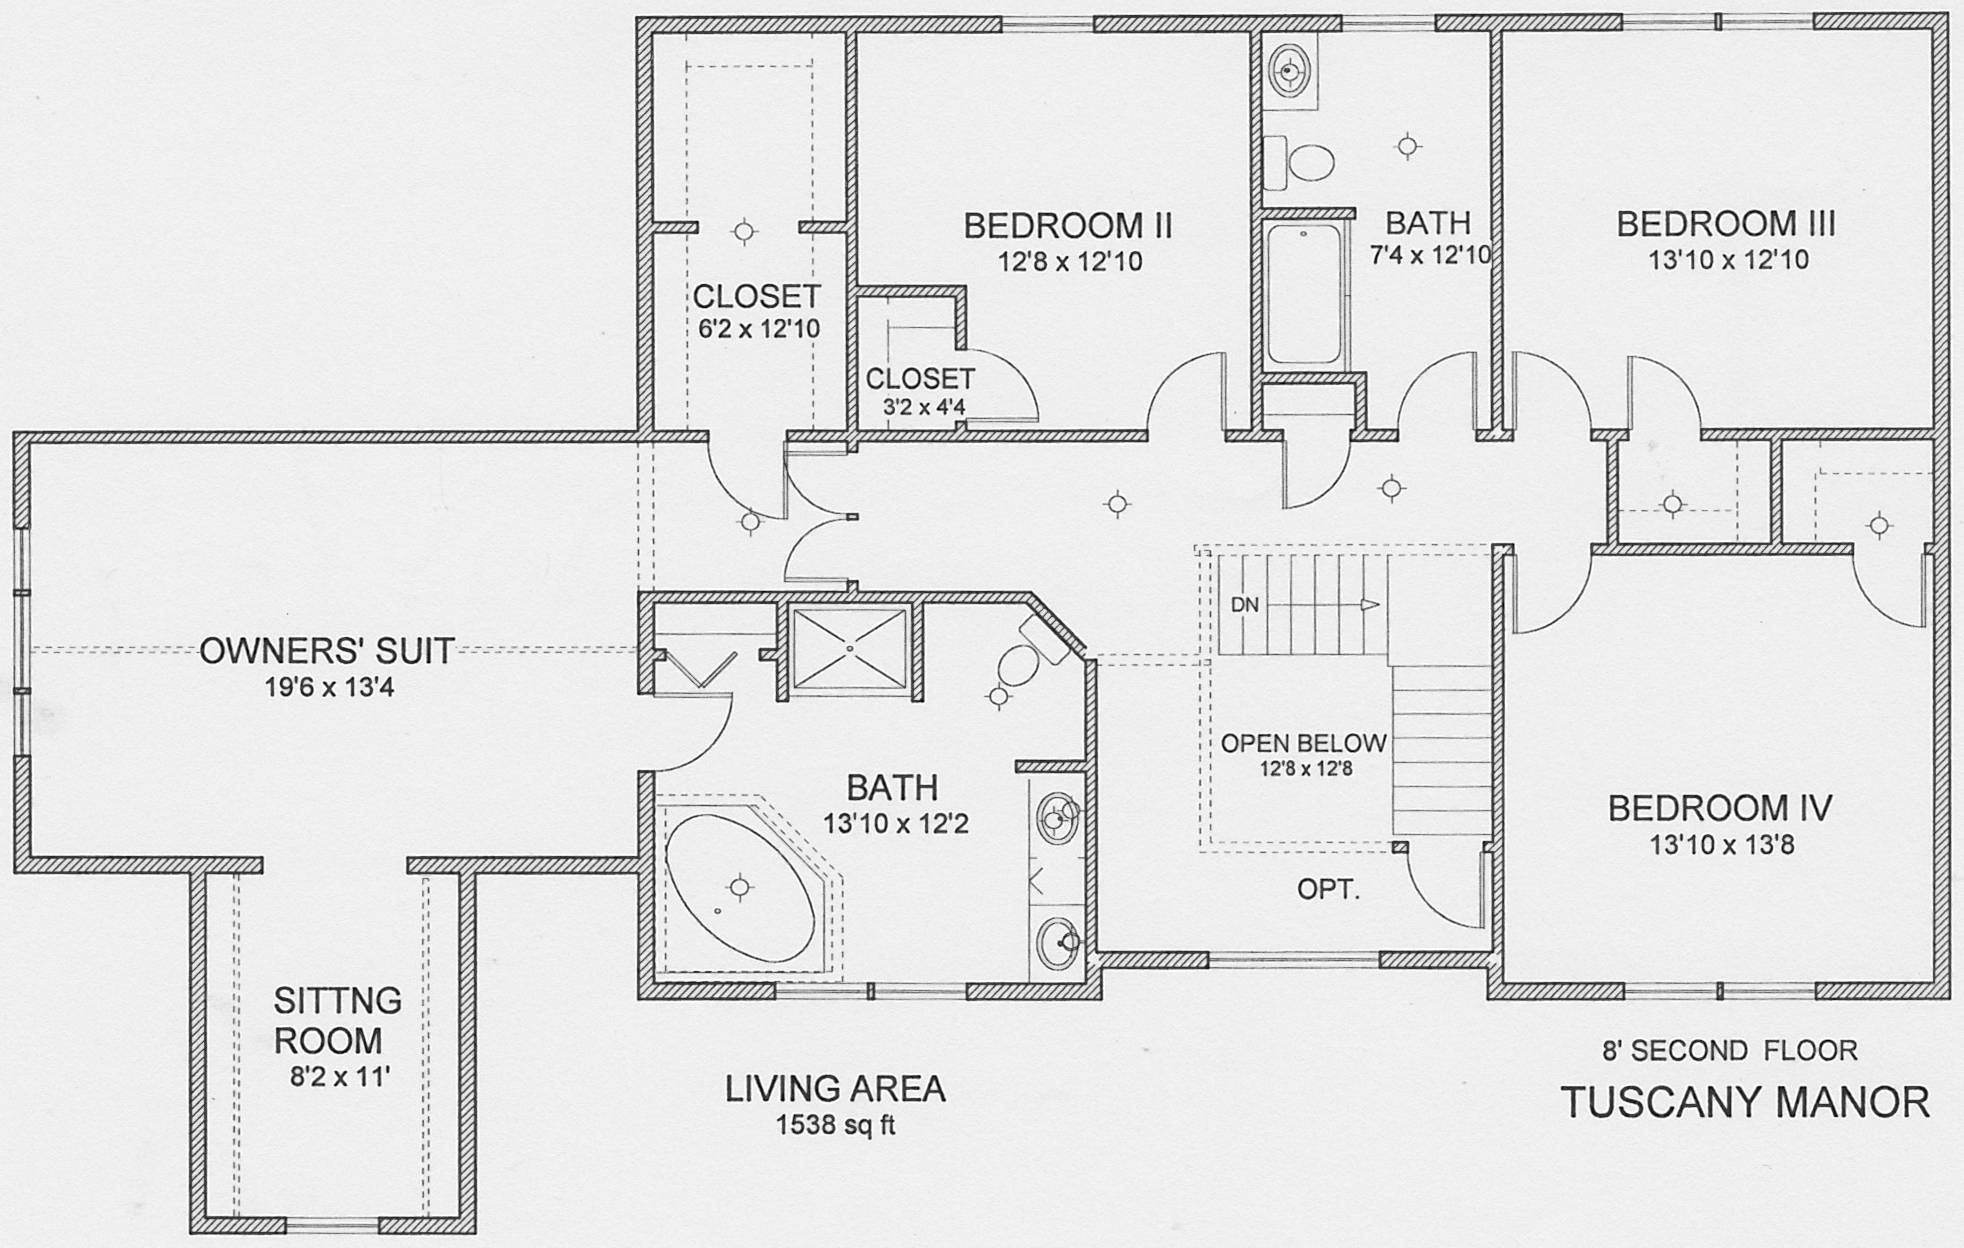window: (9, 521, 40, 763), (764, 975, 976, 1010), (1619, 978, 1824, 1010), (1200, 947, 1389, 978), (1613, 9, 1824, 33), (995, 11, 1099, 42), (1336, 9, 1440, 39)
